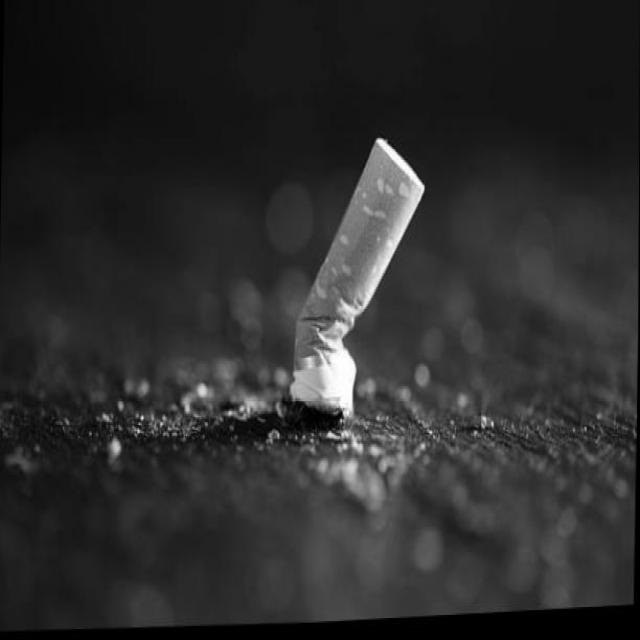cigarette: (287, 134, 431, 432)
